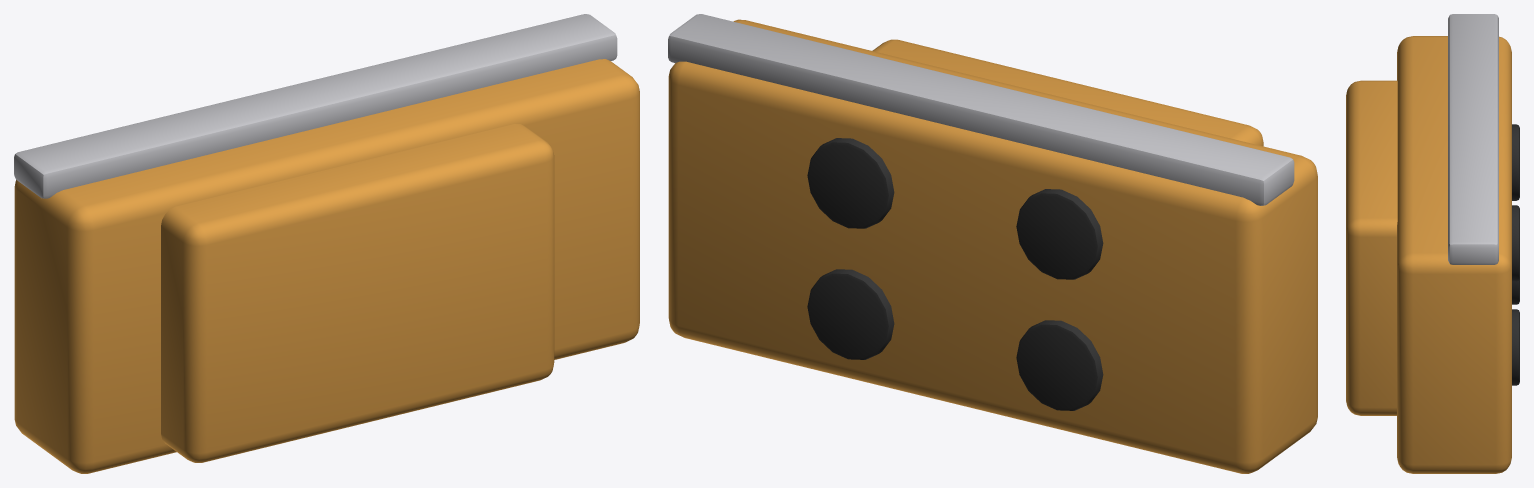
File: car_orange.glb
3 views of the same model, side by side, from view 1: azimuth 30°, elevation 25°; view 2: azimuth 150°, elevation 25°; view 3: azimuth 270°, elevation 25° (orthographic). The views are drawn at different scales.
Visible parts, largest first — view 1: Cabin, LowerBody, Bumper; view 2: LowerBody, Bumper, Cabin, Wheel_-0.3_-0.18, Wheel_0.3_-0.18, Wheel_0.3_0.18, Wheel_-0.3_0.18; view 3: LowerBody, Cabin, Bumper, Wheel_0.3_0.18, Wheel_0.3_-0.18, Wheel_-0.3_0.18.
Boxes of the visible parts, x1,y1,x2,y2 form: Cabin: (161,124,554,462); LowerBody: (14,59,639,473); Bumper: (14,14,617,198); LowerBody: (668,19,1317,473); Bumper: (668,14,1294,205); Cabin: (872,39,1263,146); Wheel_-0.3_-0.18: (1016,320,1103,410); Wheel_0.3_-0.18: (807,269,894,359); Wheel_0.3_0.18: (807,138,894,228); Wheel_-0.3_0.18: (1016,189,1103,279); LowerBody: (1397,36,1511,473); Cabin: (1346,80,1397,415); Bumper: (1448,14,1498,264); Wheel_0.3_0.18: (1512,205,1519,281); Wheel_0.3_-0.18: (1512,309,1519,385); Wheel_-0.3_0.18: (1512,124,1519,200).
Size of the model in its own units: 1.72 by 0.82 by 0.545.
